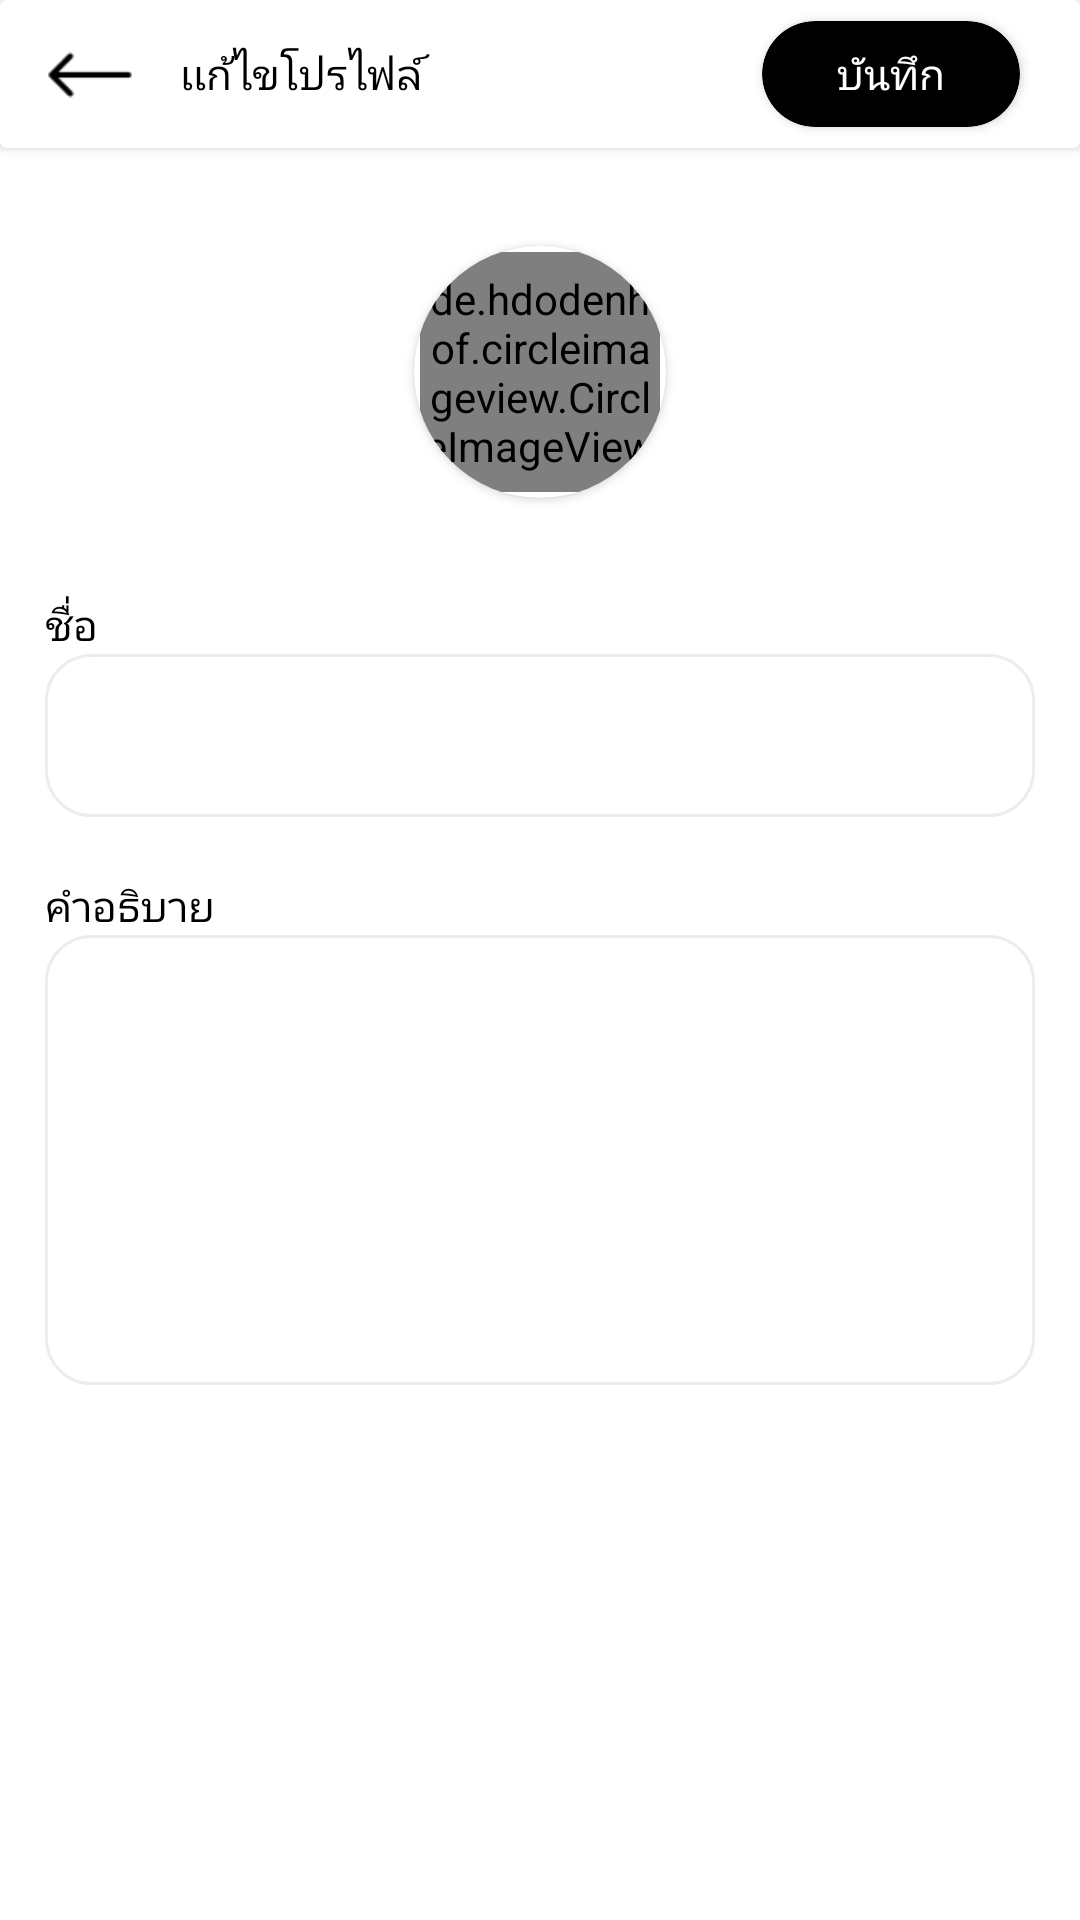

Locate icon controls on the screen. Image size 1080px×1920px, boxes as (x1, y1, x2, y2).
arrow left: (48, 52, 132, 98)
